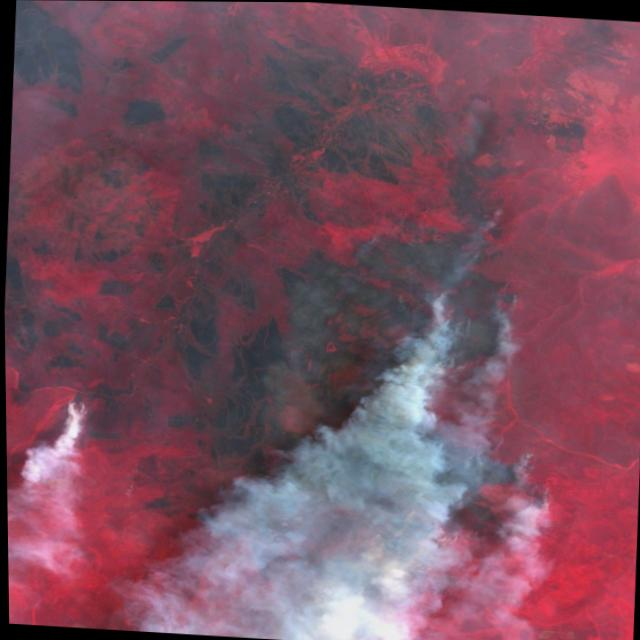fire: (276, 191, 580, 611), (55, 387, 111, 429)
